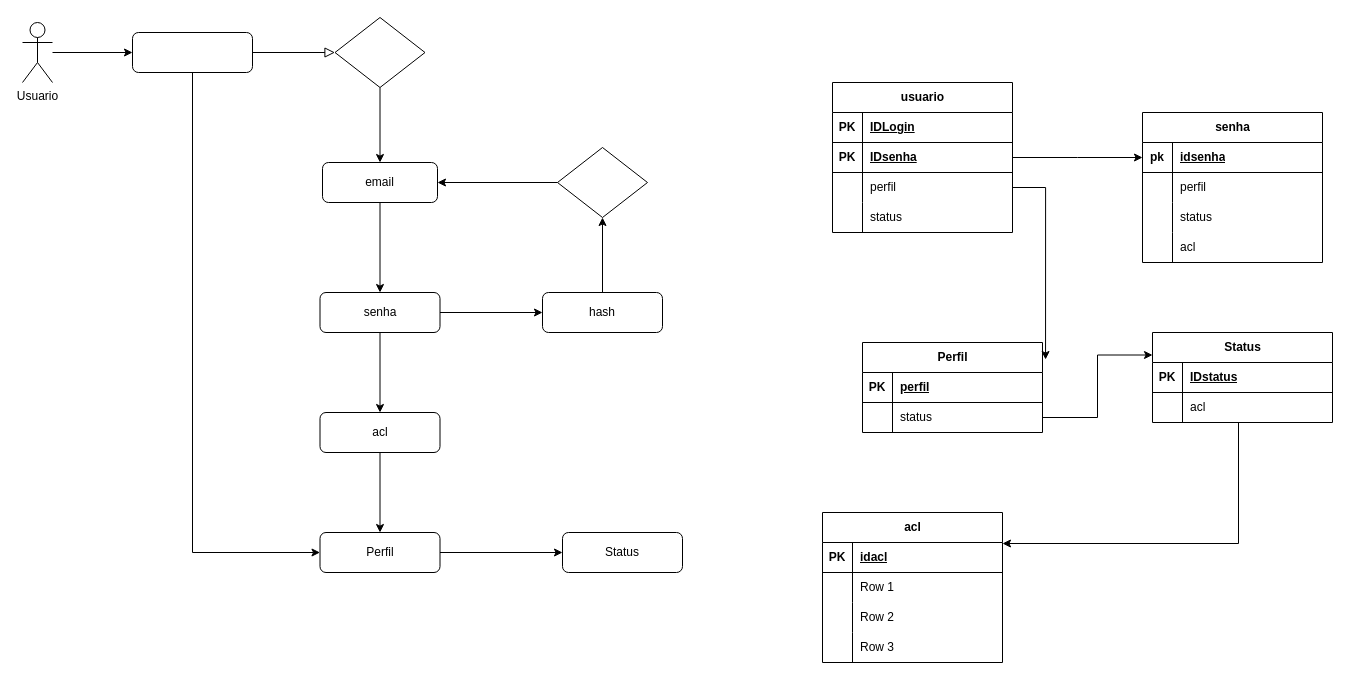
This 1350x680 diagram has some shape labels left out. Here are the shapes that lost their labels. From the top down, the centre of each, then its label:
At point (192, 52): "login".
At point (379, 52): "precisa".
At point (602, 182): "recuperar senha".
